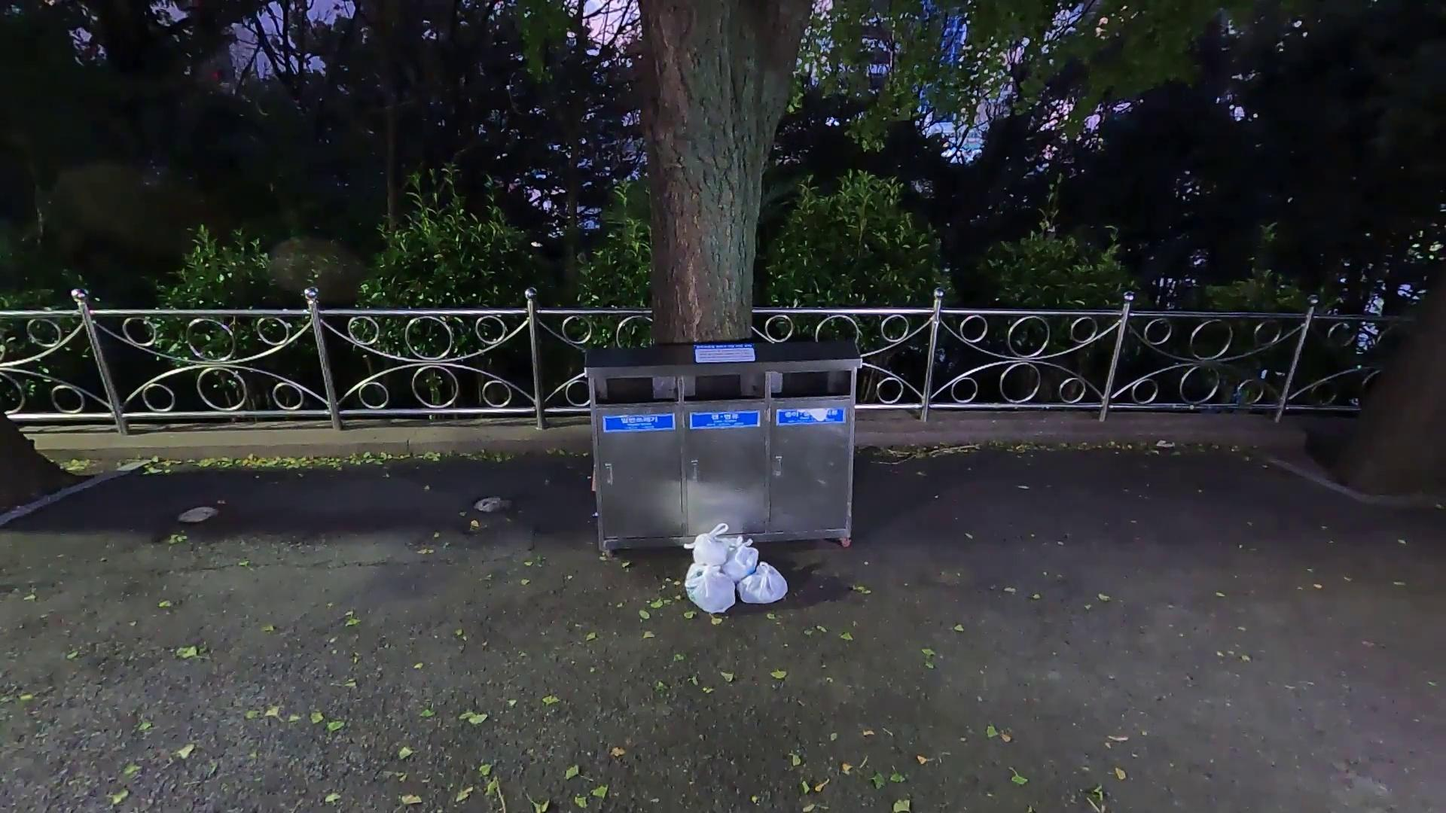trash: (675, 548, 747, 615), (738, 555, 792, 608), (686, 525, 734, 573), (716, 532, 764, 577)
